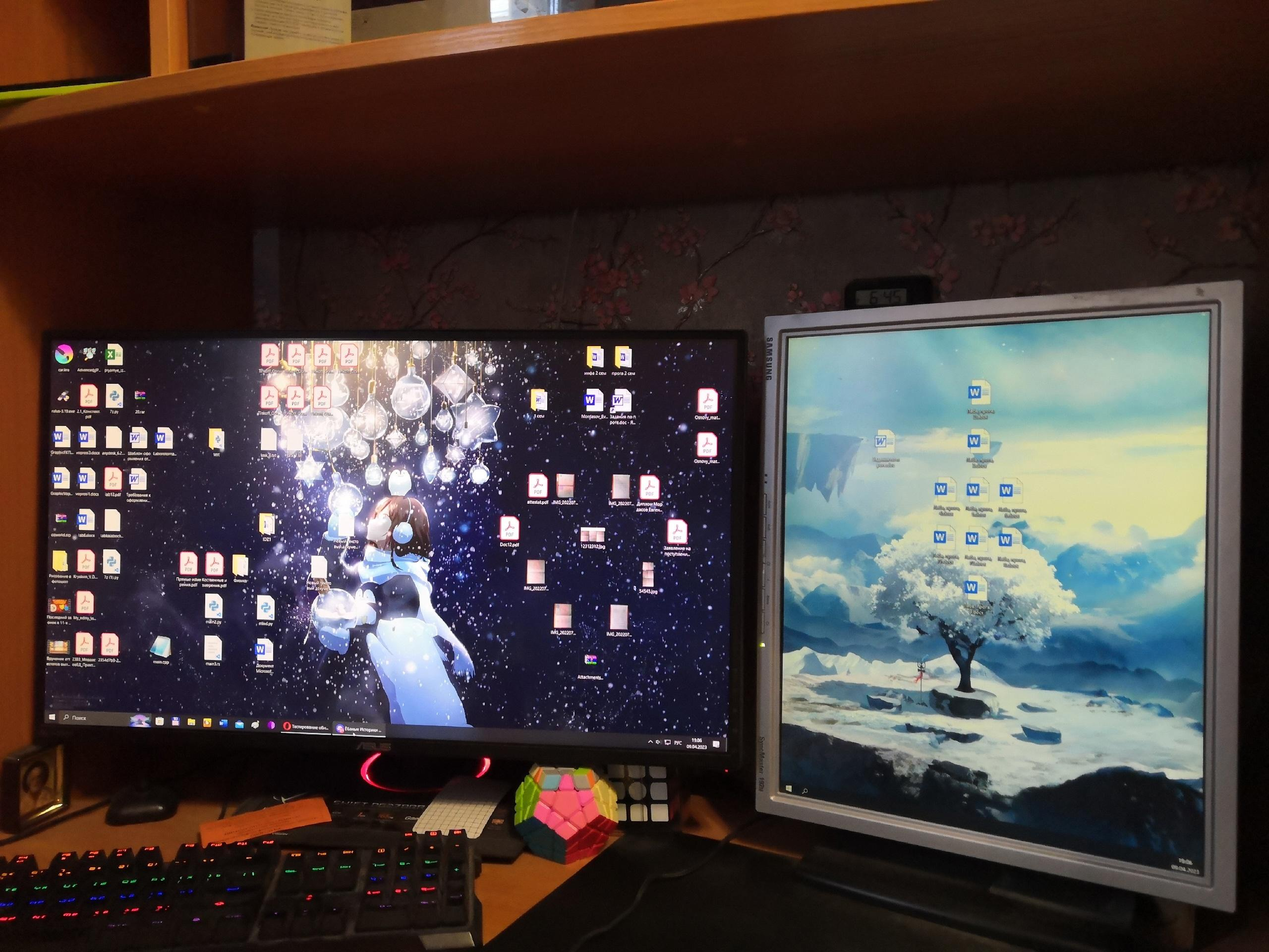monitor: (31, 321, 758, 807), (744, 273, 1256, 931)
